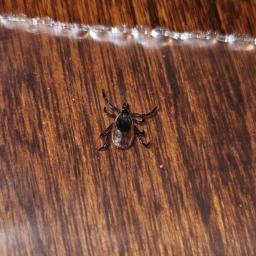Ixodes scapularis: (96, 89, 159, 152)
